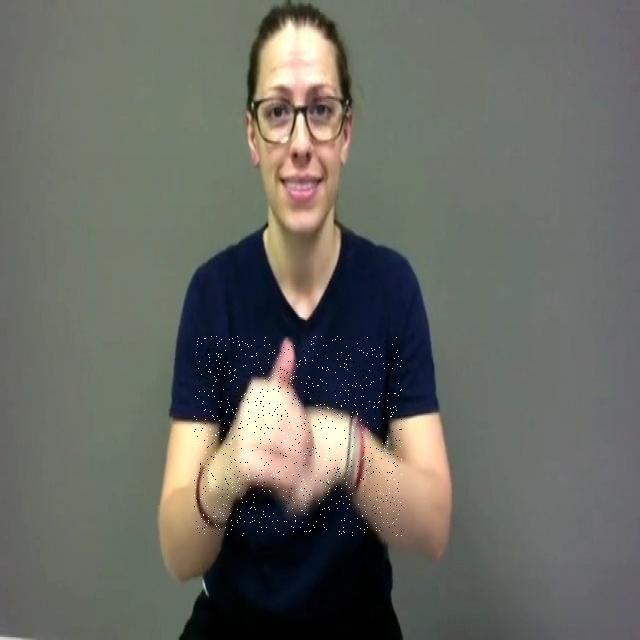bread: (194, 336, 402, 536)
